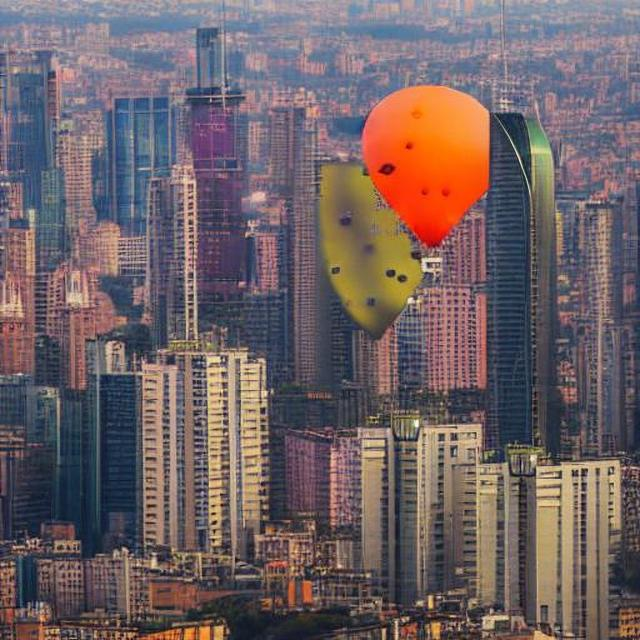balloon: (352, 82, 491, 259)
